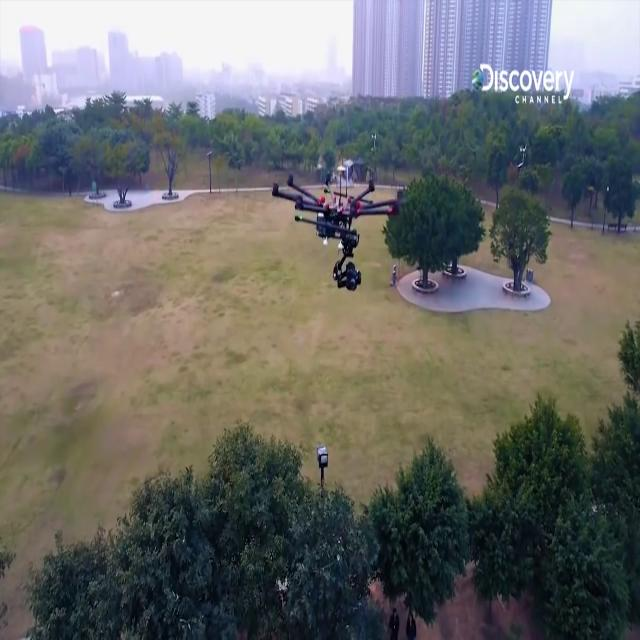drone: (264, 140, 406, 308)
